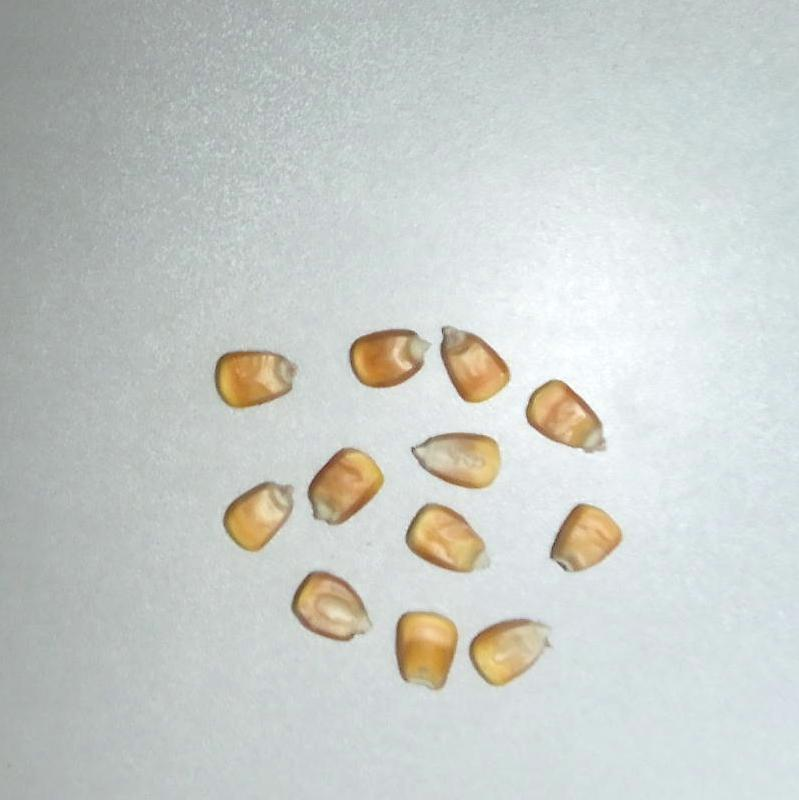corn: (292, 438, 393, 538), (516, 372, 618, 471), (459, 597, 562, 694), (399, 496, 505, 589), (284, 563, 387, 657), (425, 309, 517, 410), (215, 464, 306, 558), (538, 495, 628, 585), (390, 608, 461, 691), (409, 431, 502, 490), (350, 329, 432, 388), (215, 350, 298, 408)
